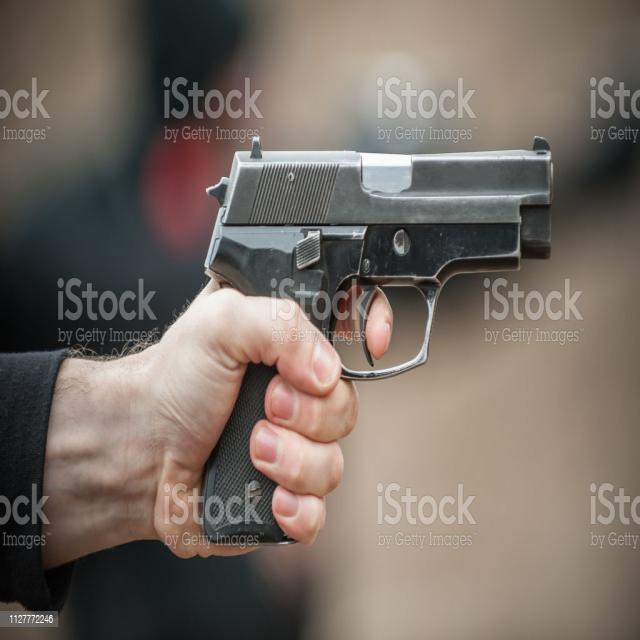Handgun: (85, 76, 577, 554)
